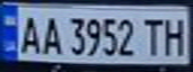2: (115, 15, 139, 58)
3: (63, 14, 87, 56)
5: (100, 15, 121, 57)
9: (81, 14, 103, 57)
A: (15, 11, 45, 55), (36, 12, 63, 55)
H: (160, 14, 190, 56)
T: (139, 15, 166, 56)
